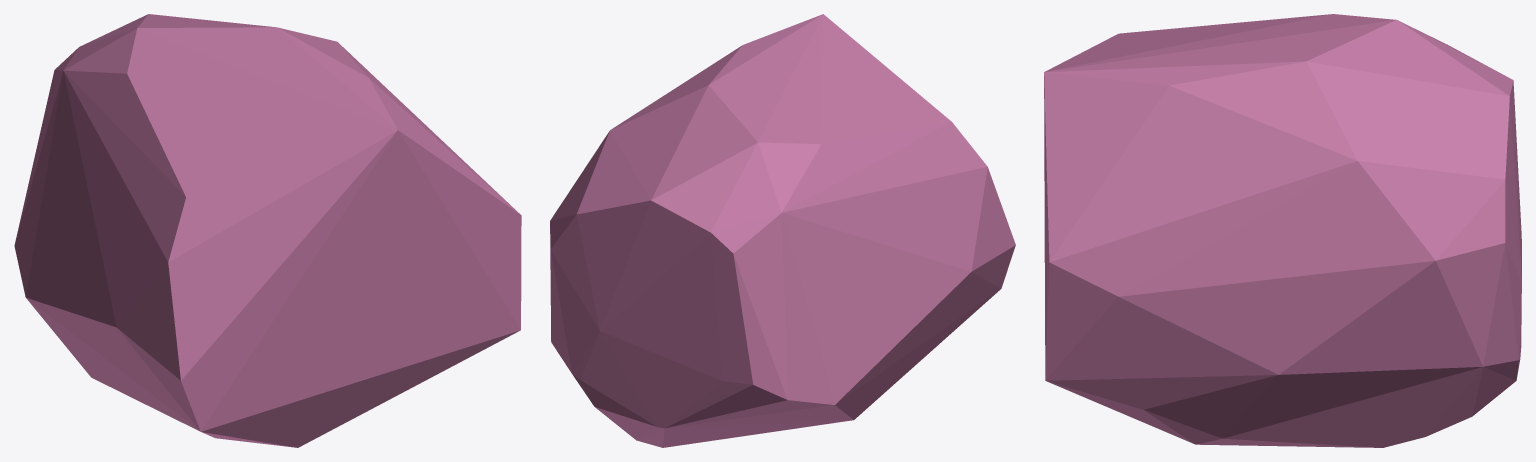
Rendered from dishware_glass_tumbler_a01.glb.
3 views of the same model, side by side, from view 1: azimuth 30°, elevation 25°; view 2: azimuth 150°, elevation 25°; view 3: azimuth 270°, elevation 25° (orthographic). The views are drawn at different scales.
Parts seen in each view (by area): view 1: geometry_0; view 2: geometry_0; view 3: geometry_0.
Boxes of the visible parts, x1,y1,x2,y2 form: geometry_0: [14, 14, 521, 447]; geometry_0: [550, 14, 1015, 447]; geometry_0: [1044, 14, 1521, 447].
Size of the model in its own units: 0.4412 by 0.4405 by 0.48.
